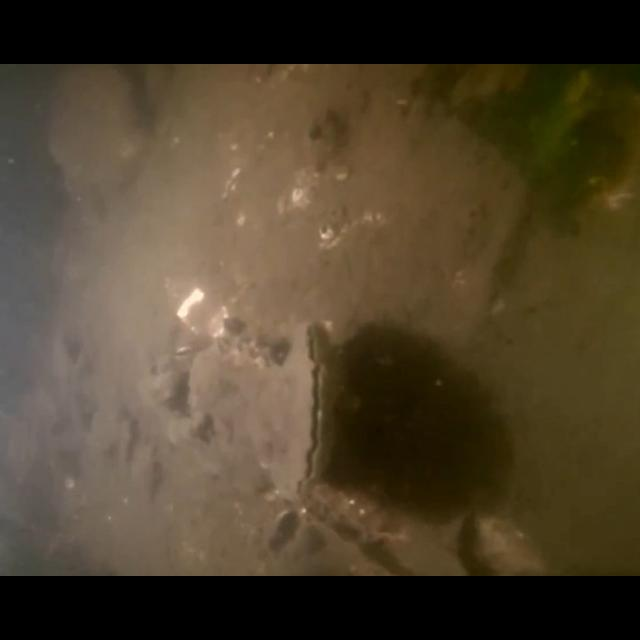Oyster-Open: (250, 314, 344, 503), (187, 331, 285, 479)
